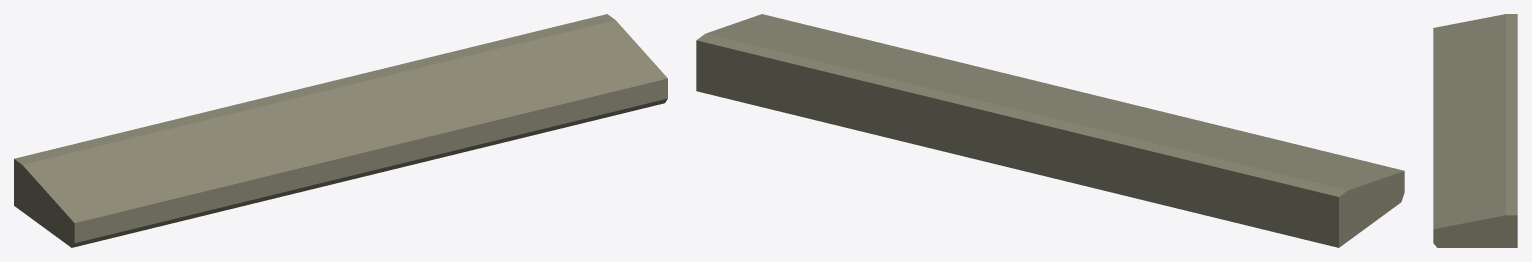
Rendered from cedar-source-window-paired-sill.lod1.glb.
3 renders of one model, left to right at view 1: azimuth 30°, elevation 25°; view 2: azimuth 150°, elevation 25°; view 3: azimuth 270°, elevation 25°, orthographic. The views are drawn at different scales.
Parts seen in each view (by area): view 1: window-sill; view 2: window-sill; view 3: window-sill.
Part boxes in pixels (left/top/right/bottom): window-sill: left=14, top=14, right=667, bottom=247; window-sill: left=696, top=14, right=1404, bottom=247; window-sill: left=1433, top=14, right=1517, bottom=247.
Bounding box in the file's own units: 1.64 × 0.124 × 0.29.
